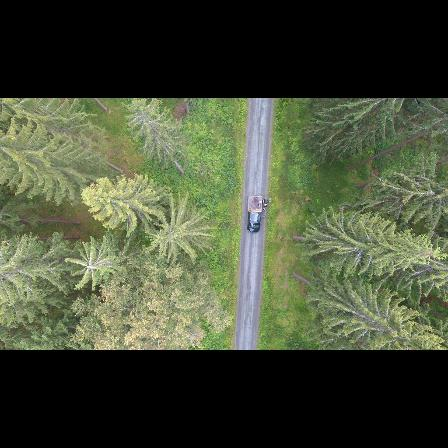Sick: (66, 246, 114, 284)
